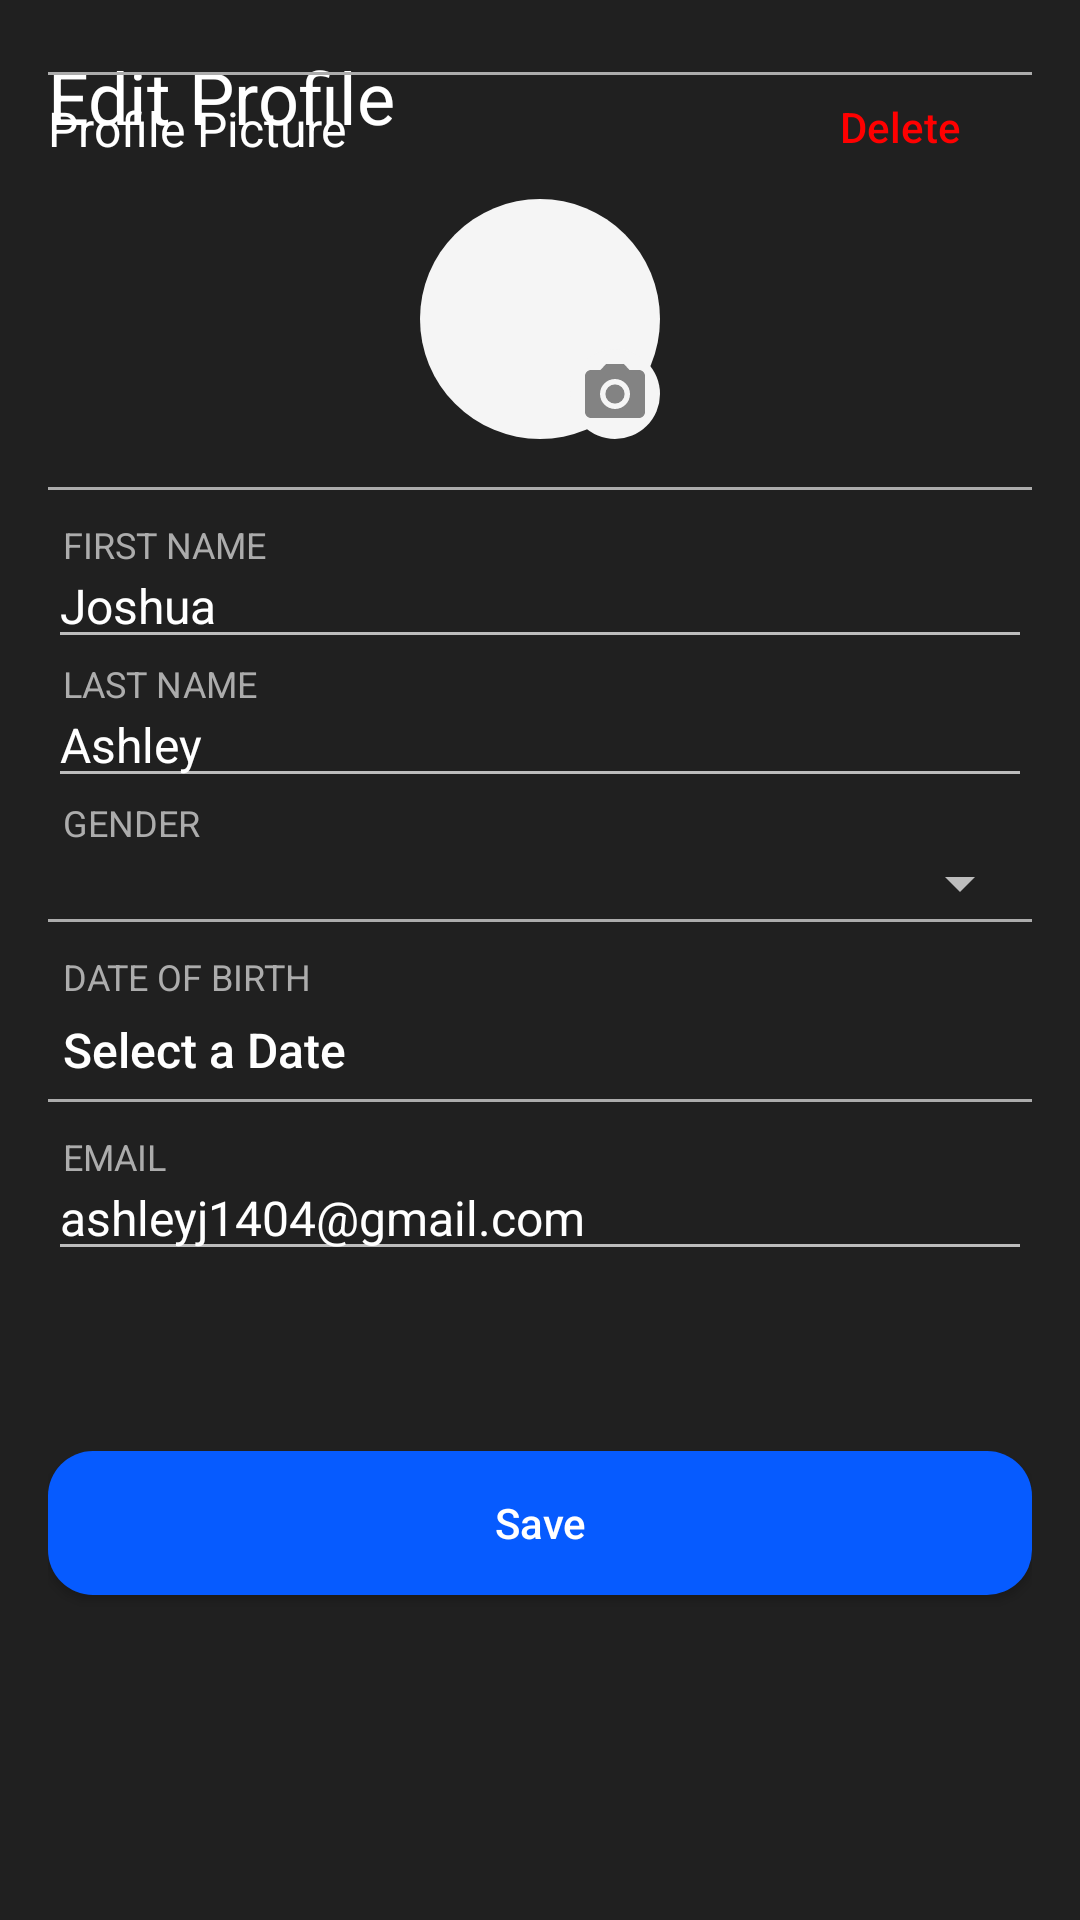

Icon click points for this 1080px x 1920px phone screenshot, format point (x, y):
camera: point (615, 394)
